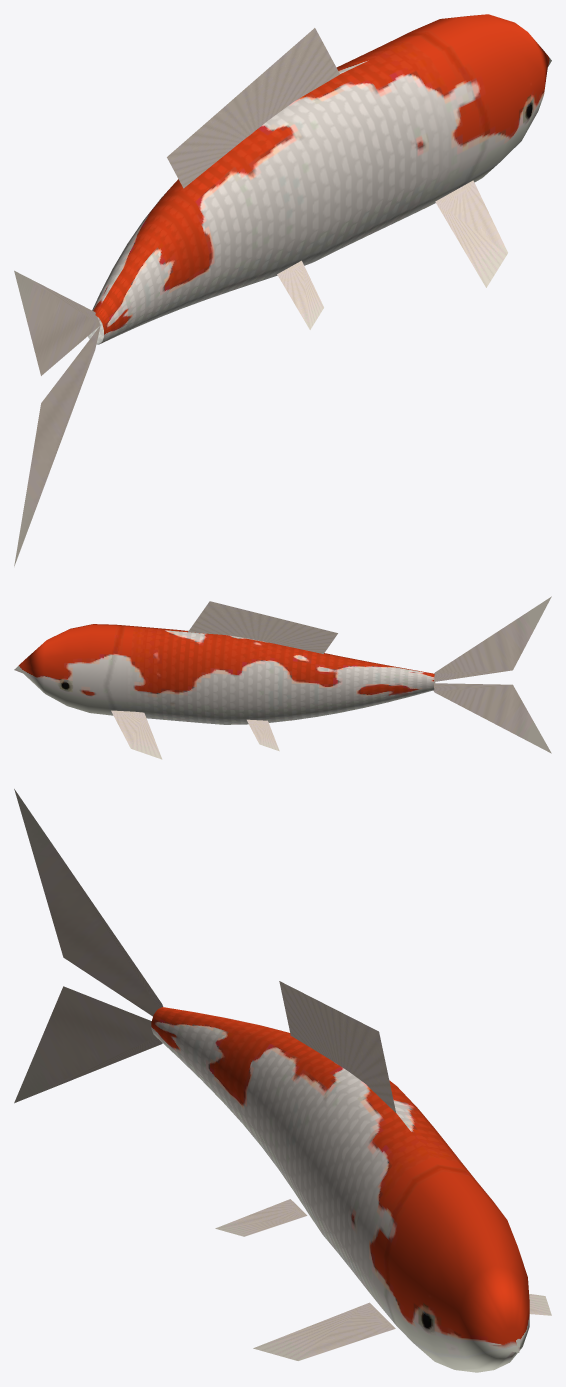
File: kohaku-koi.glb
3 renders of one model, top to bottom at view 1: azimuth 30°, elevation 25°; view 2: azimuth 150°, elevation 25°; view 3: azimuth 270°, elevation 25°, orthographic. The views are drawn at different scales.
Visible parts, largest first — view 1: koi_1_body; view 2: koi_1_body; view 3: koi_1_body.
Part boxes in pixels (x1,y1,x2,y2): koi_1_body: [14, 14, 551, 566]; koi_1_body: [14, 596, 551, 759]; koi_1_body: [14, 789, 551, 1372].
Bounding box in the file's own units: 0.6013 × 0.221 × 0.3404.
1 material, 1 textured.
